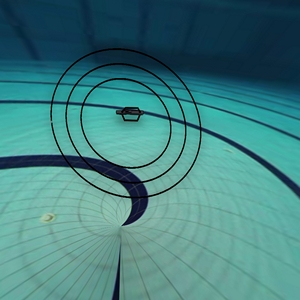circle: (37, 26, 214, 211)
submarine: (110, 100, 147, 132)
